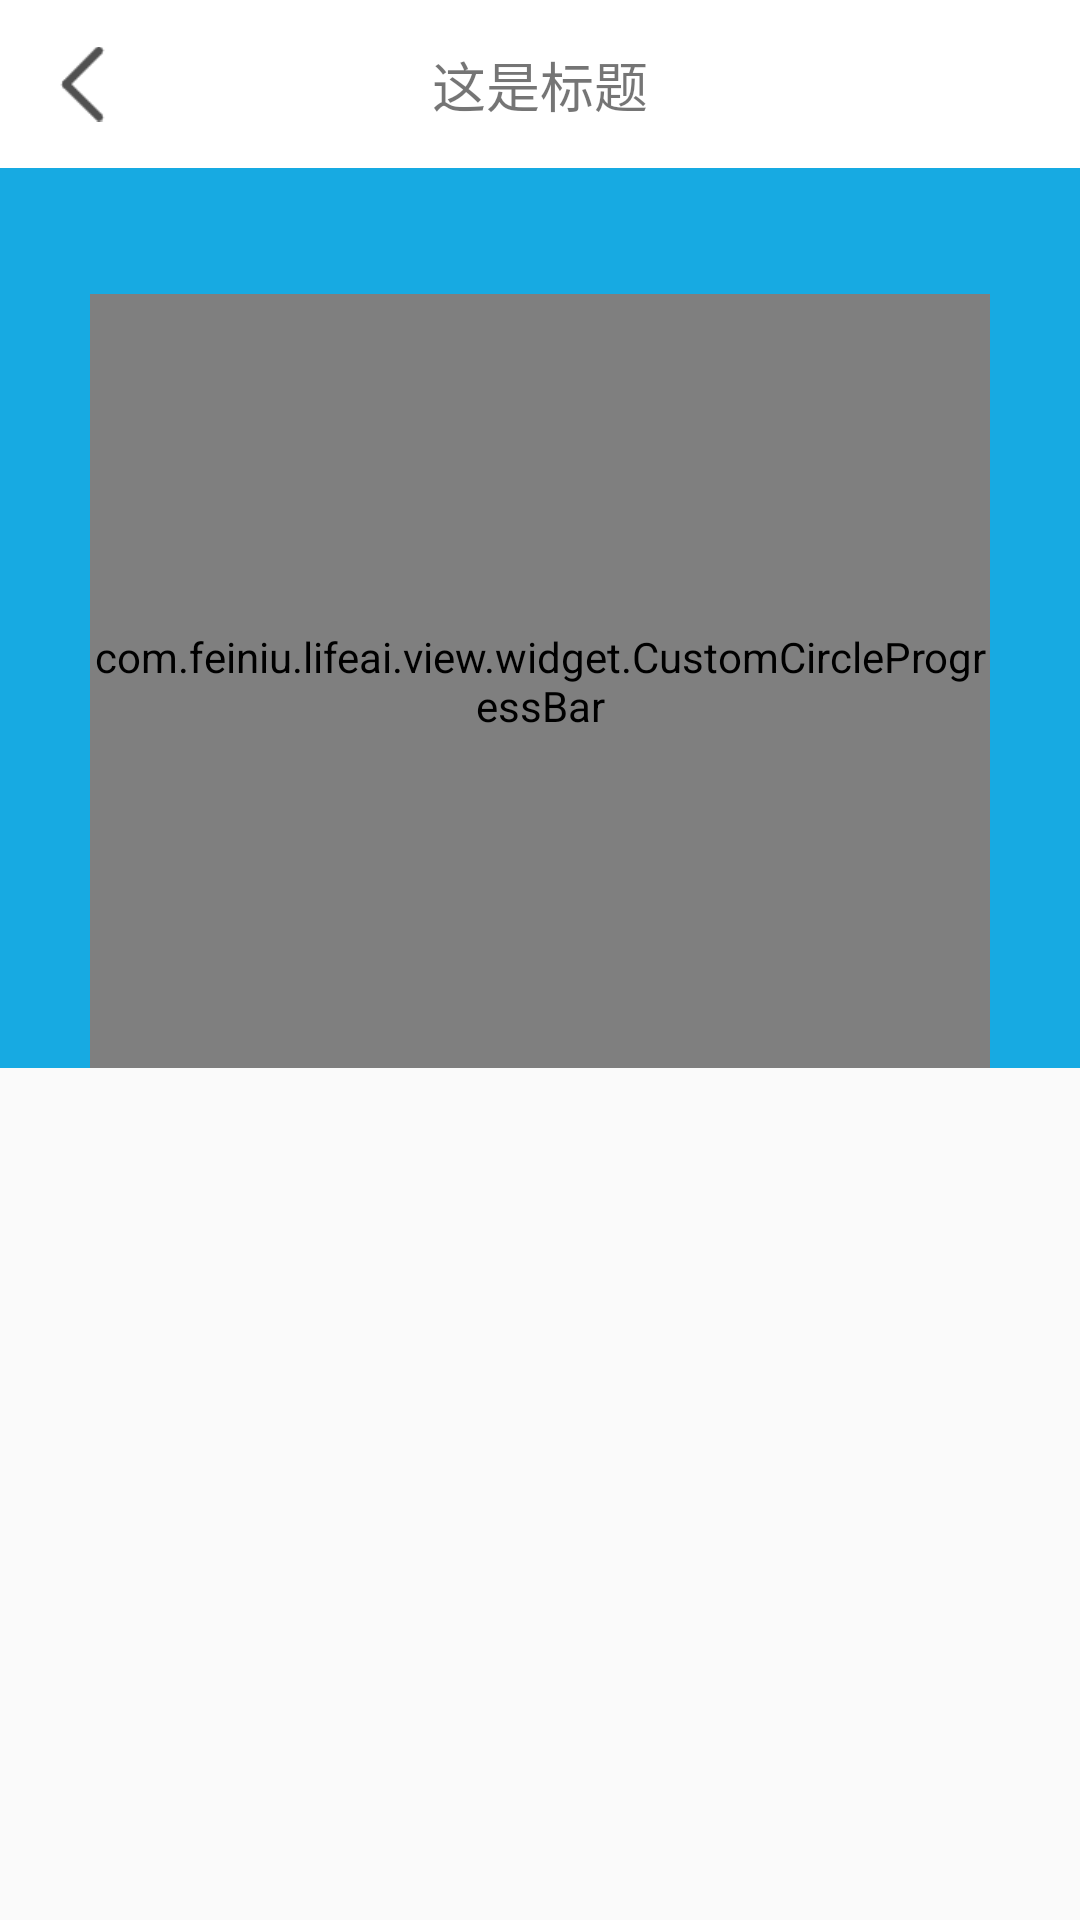

Icon click points for this 1080×1920 phone screenshot, format (x,y):
comm back: (82,84)
